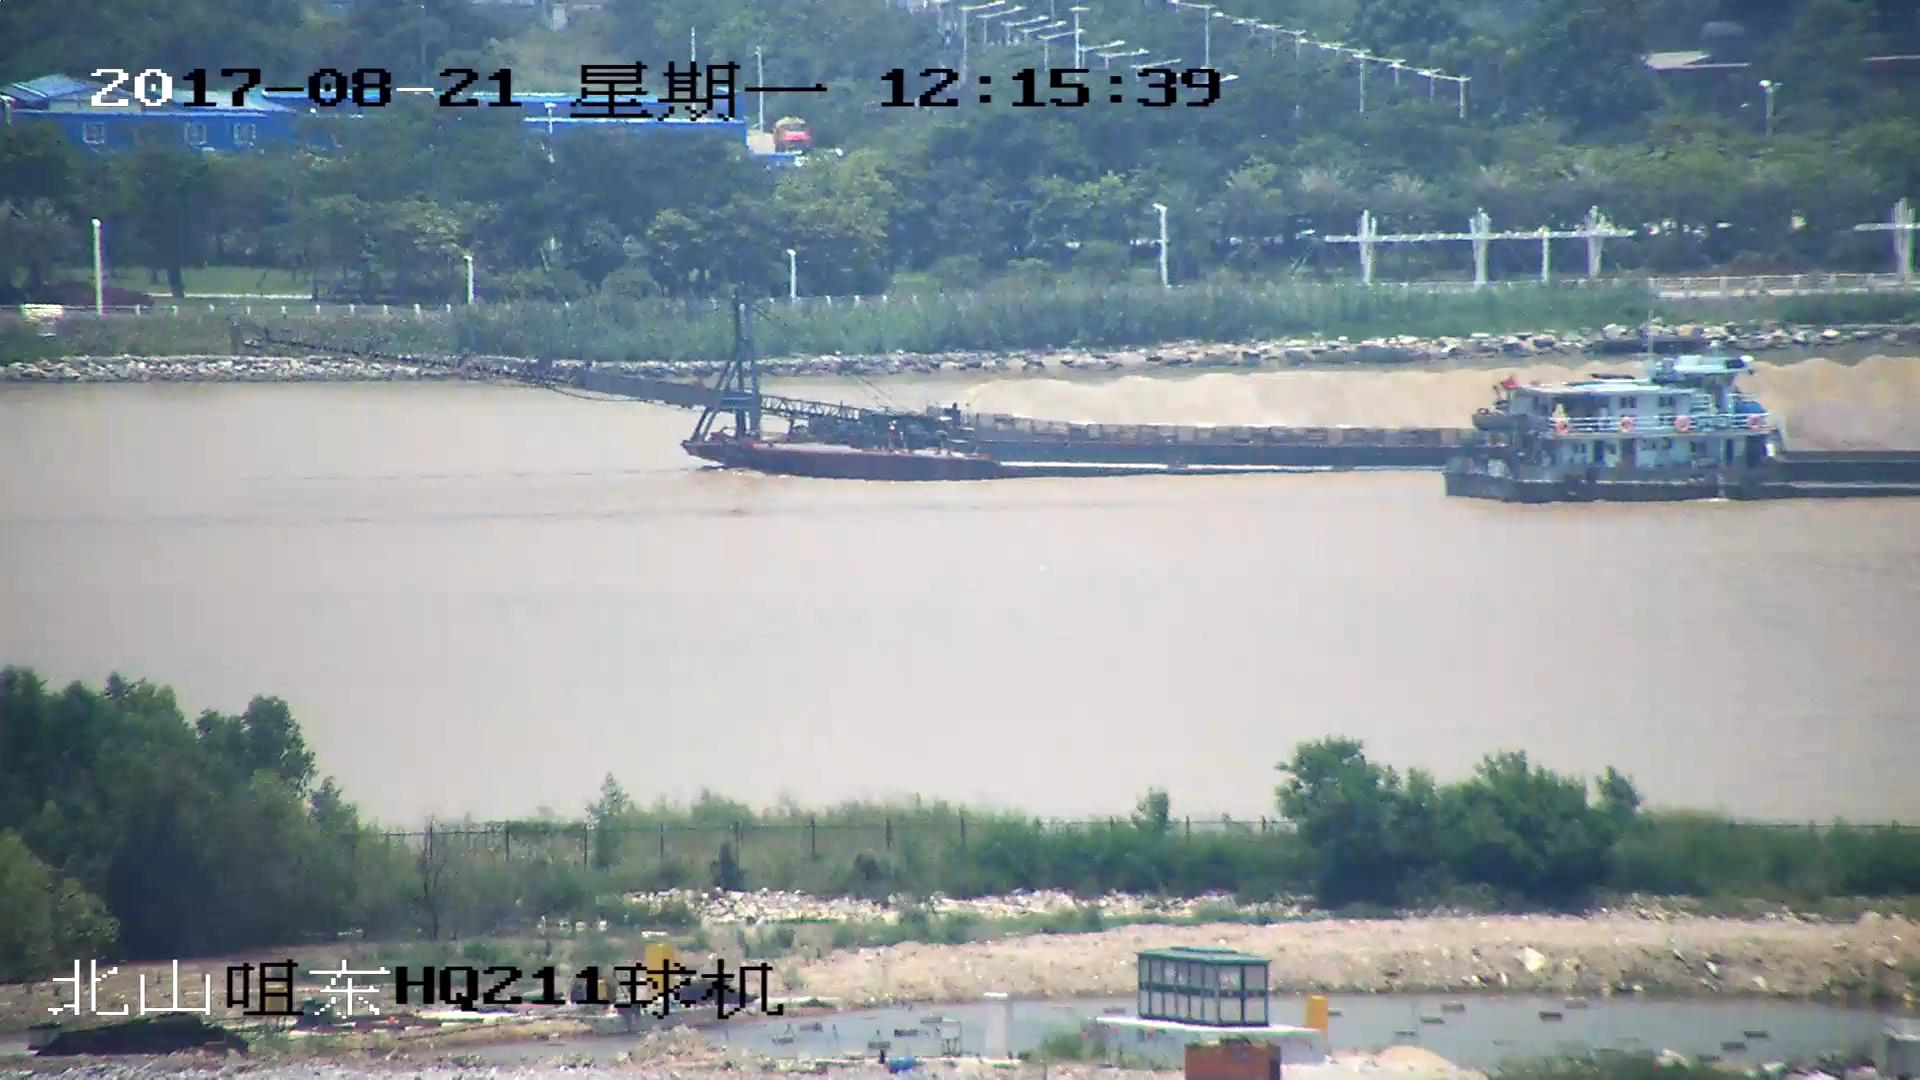bulk cargo carrier: (1446, 381, 1920, 493)
ore carrier: (240, 308, 1919, 475)
